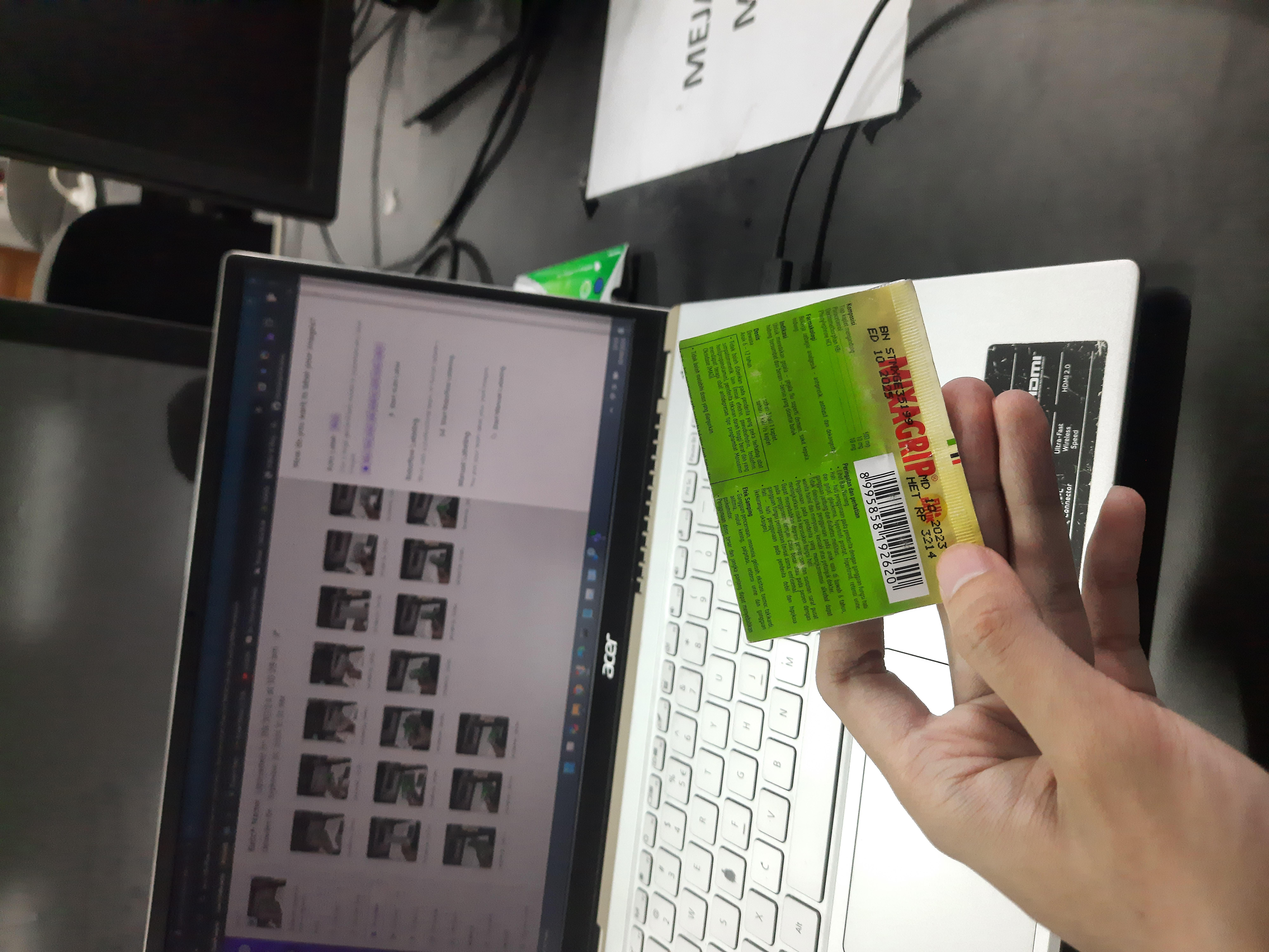Mixagrip Flu dan Batuk: (412, 509, 897, 738)
